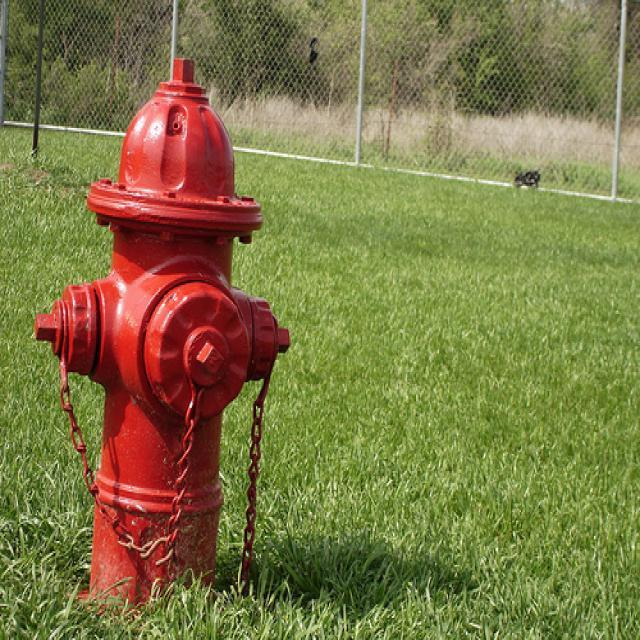fire_hydrant: (36, 60, 290, 602)
